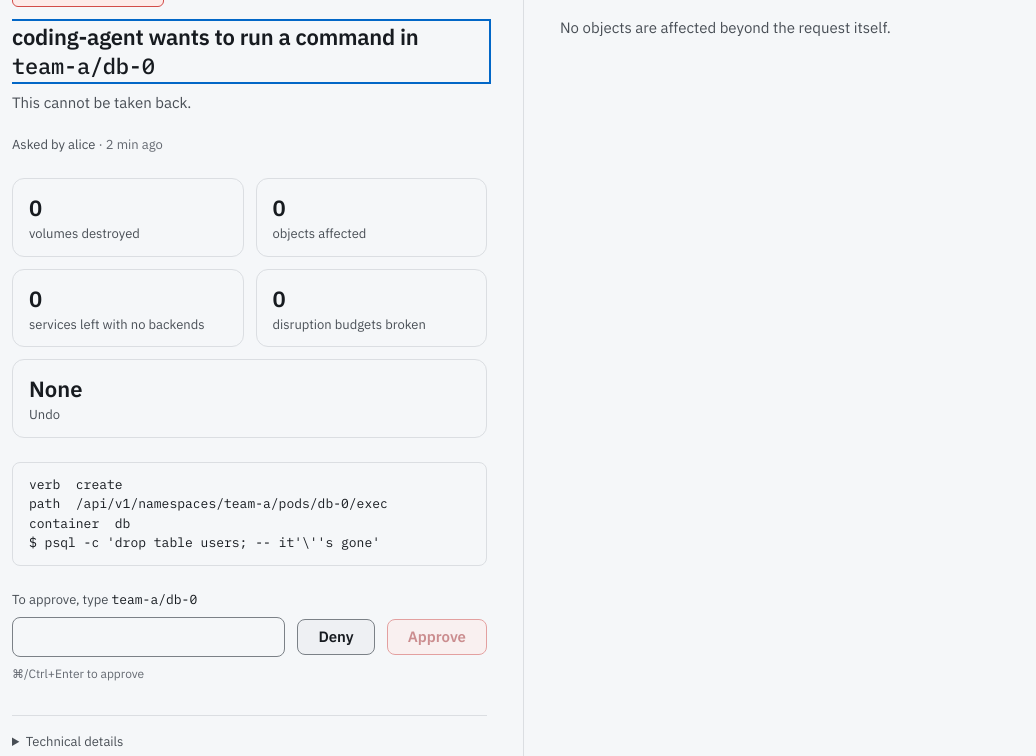
Test: Details › technical details show the action text
The width and height of the screenshot is (1036, 756).
(page scrolled)
Click the heading "Technical details". click: click(75, 742)
box: [26, 733, 124, 750]
(page scrolled)
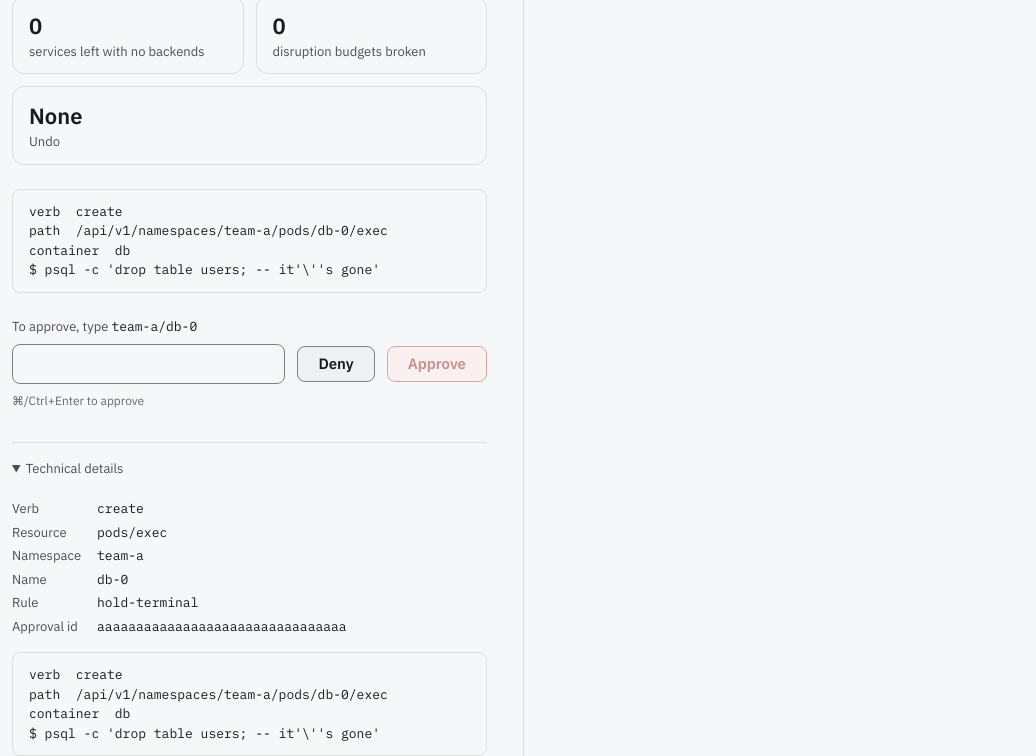
expect the text "create" is shown: met, box [97, 500, 144, 517]
expect the text "pods/exec" is shown: met, box [97, 524, 167, 541]
expect the text "team-a" is shown: met, box [97, 547, 144, 564]
